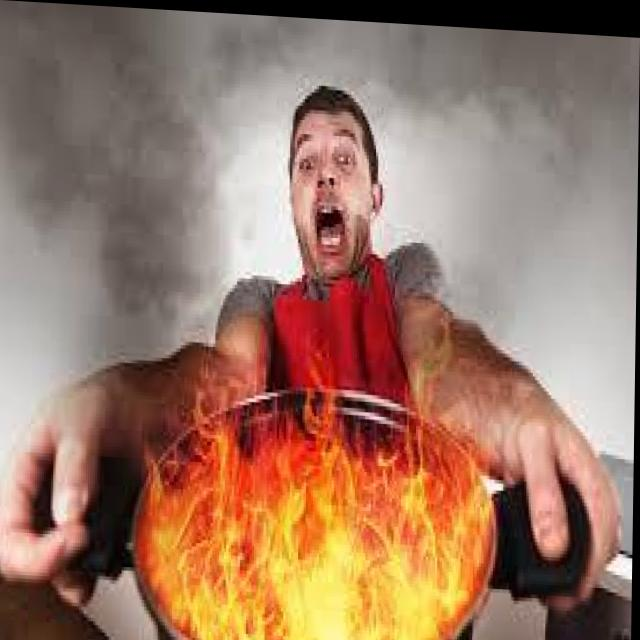fire: (144, 359, 497, 640)
